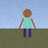person: (19, 9, 35, 37)
